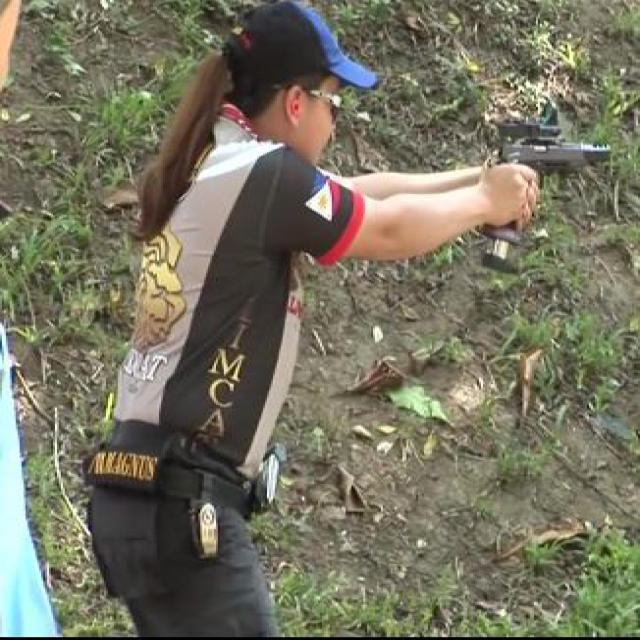gun: (471, 121, 609, 269)
